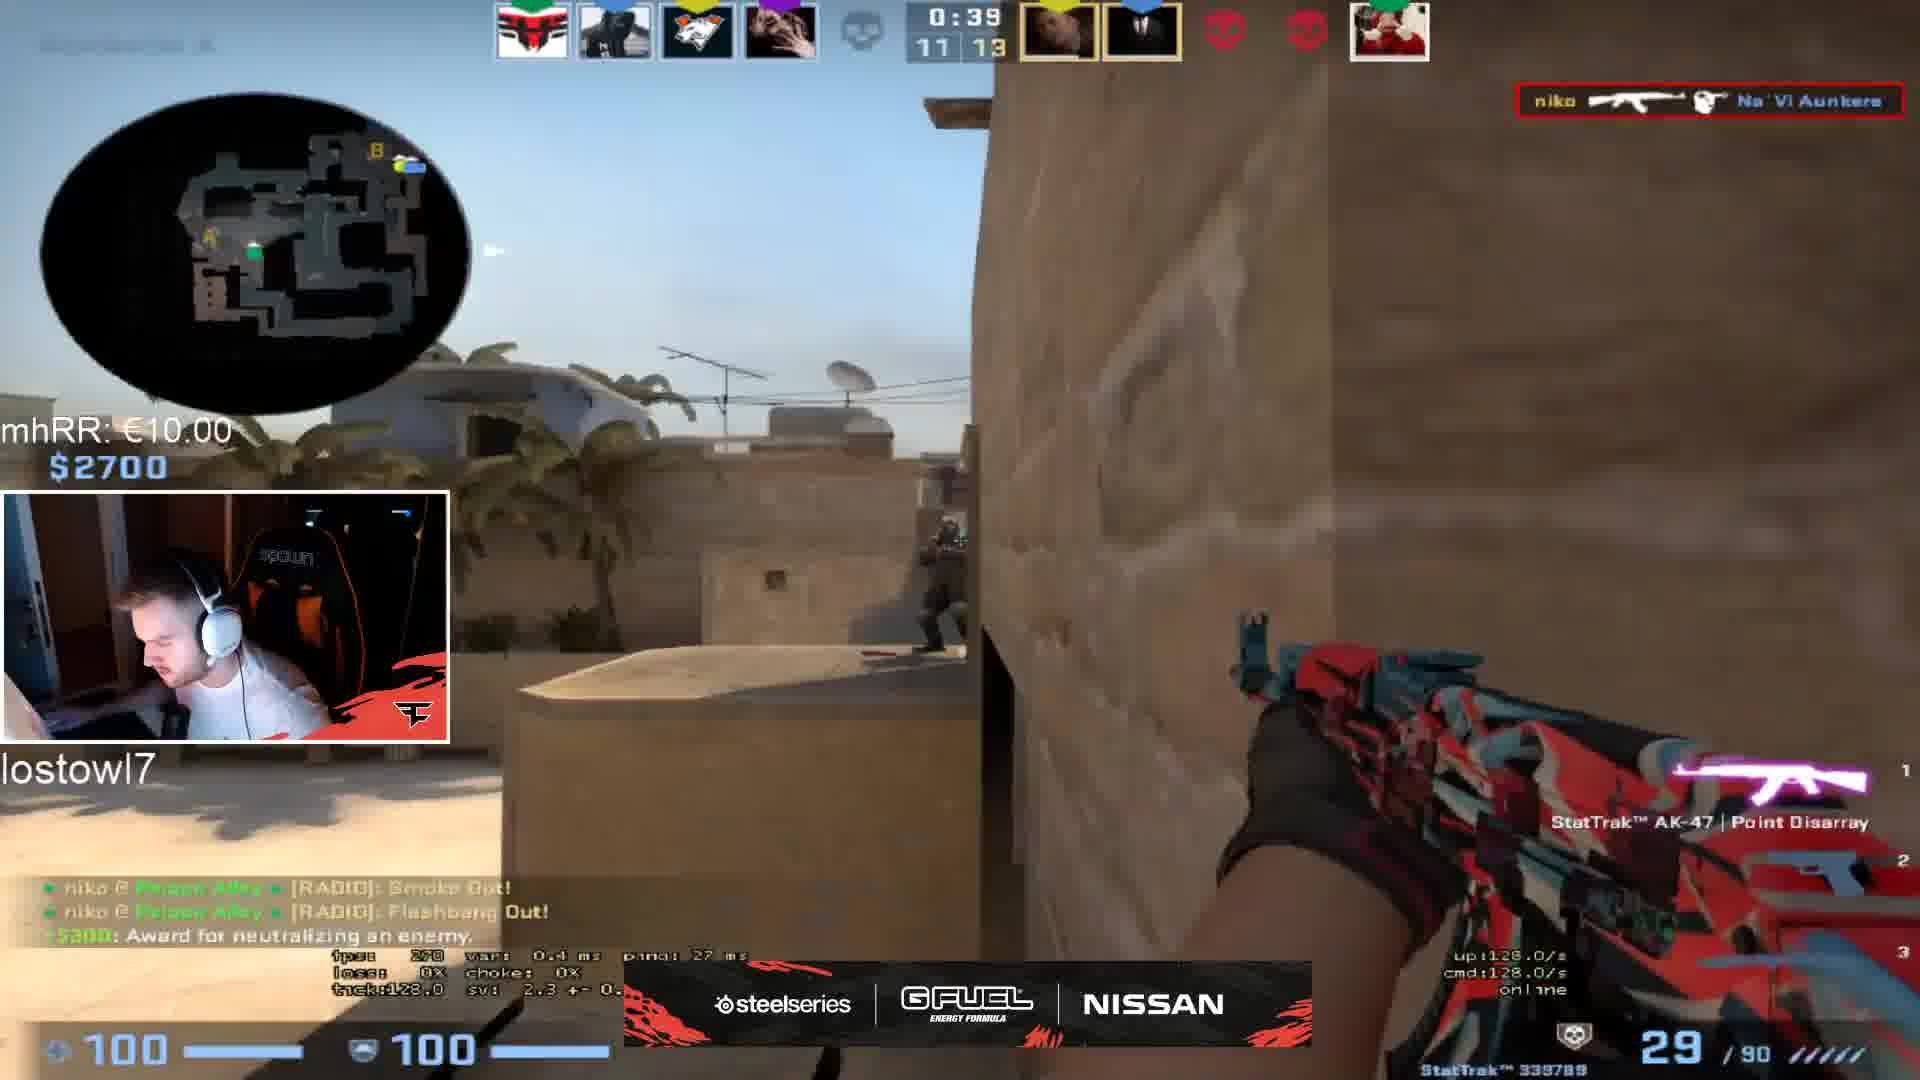enemy: (919, 516, 981, 651)
